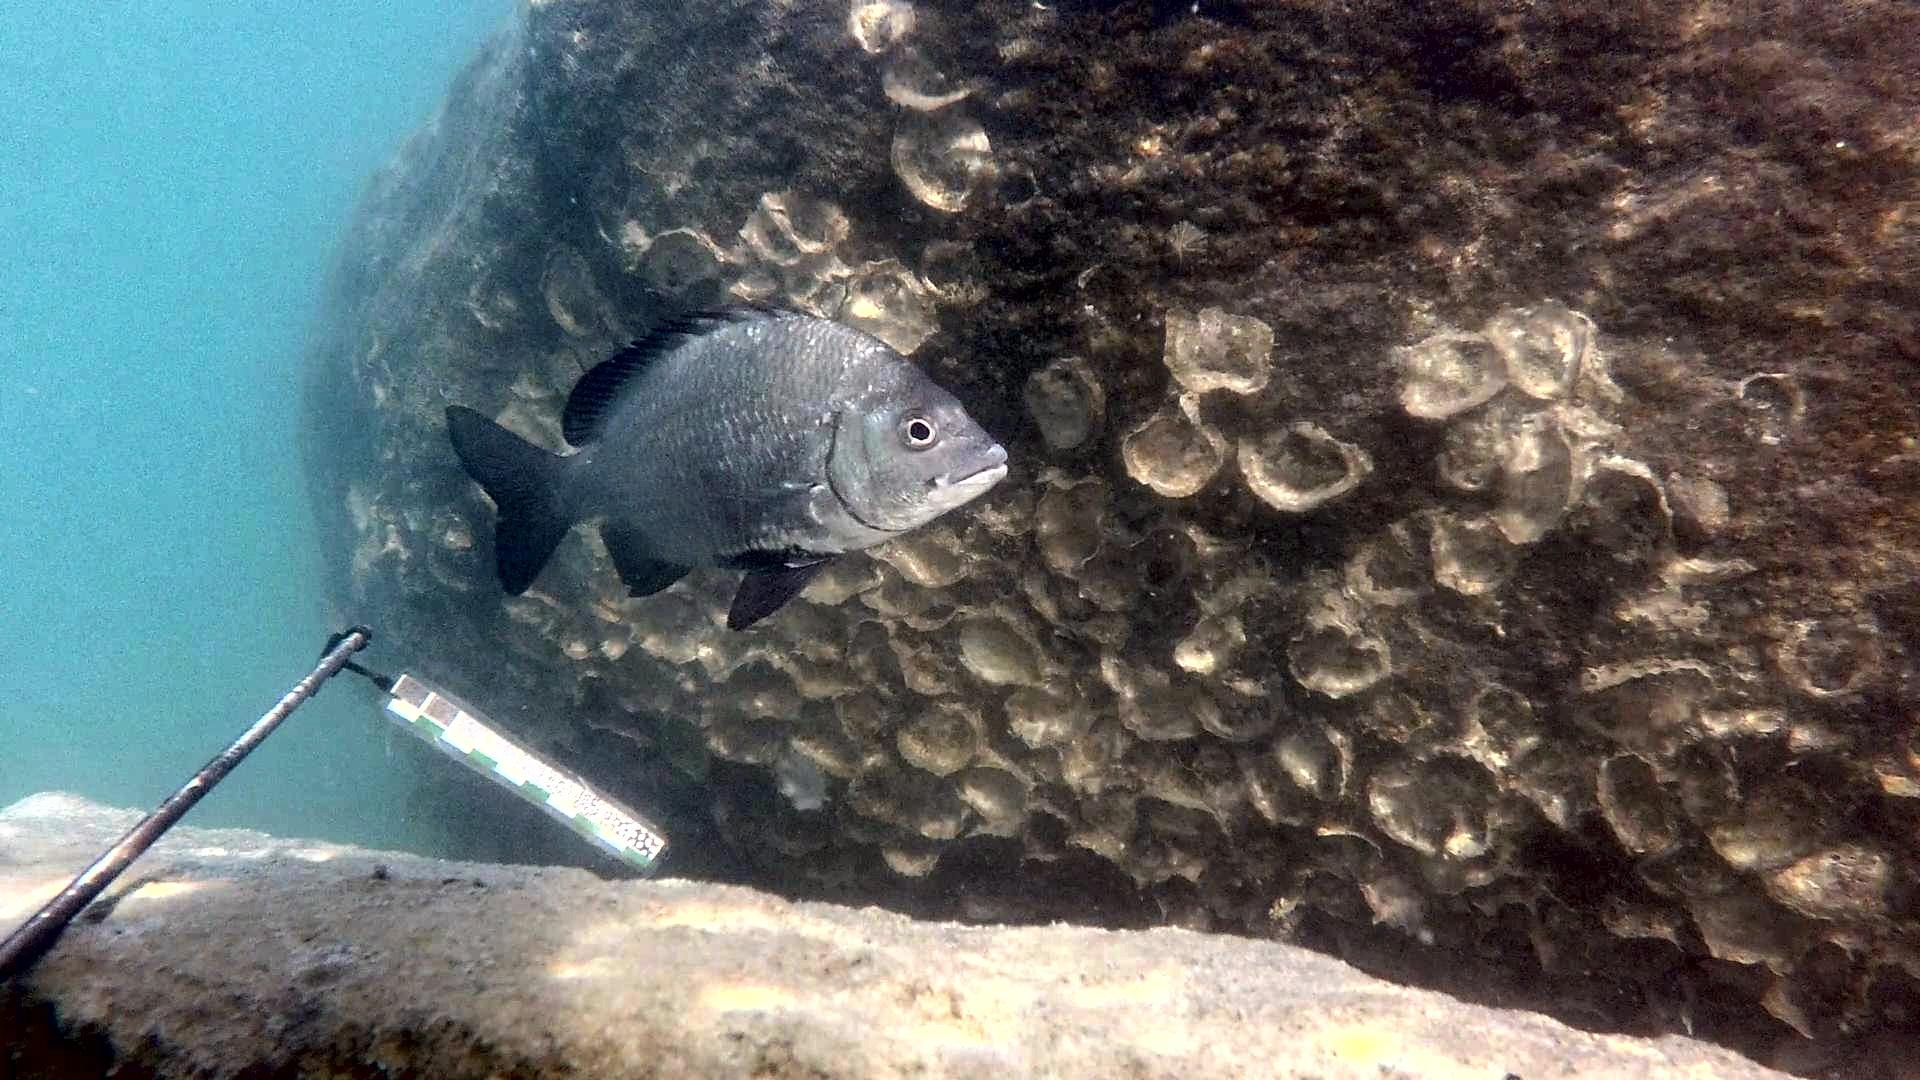acanthopagrus palmaris: (442, 298, 1021, 636)
